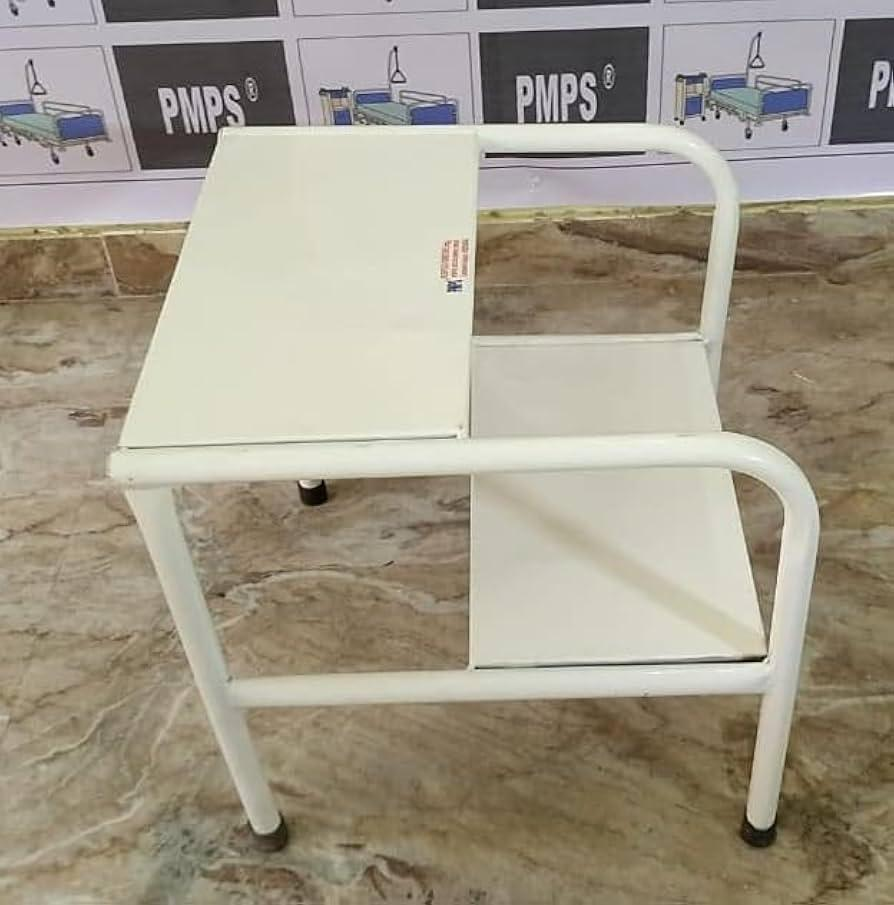stool: (96, 111, 829, 857)
